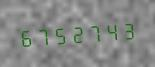five: (51, 21, 67, 47)
four: (102, 18, 118, 44)
seven: (85, 19, 101, 45), (34, 23, 50, 48)
six: (17, 24, 33, 50)
three: (119, 17, 135, 42)
two: (68, 20, 84, 46)
